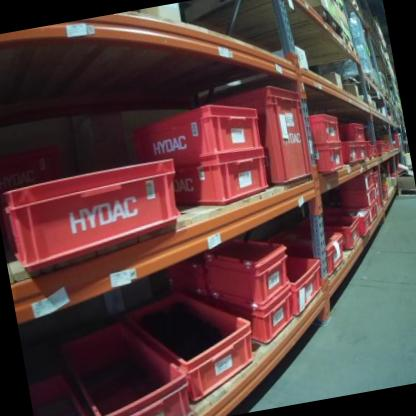pallet: (254, 9, 344, 57), (334, 34, 358, 62), (316, 0, 352, 9)
small_load_carrier: (0, 154, 187, 272), (118, 274, 265, 412), (53, 305, 197, 416), (210, 73, 315, 199), (124, 89, 271, 174), (196, 228, 298, 315), (254, 222, 355, 298), (174, 146, 278, 219), (201, 288, 301, 358), (28, 363, 95, 416), (281, 255, 332, 320), (299, 211, 363, 253), (318, 201, 374, 238), (303, 140, 348, 180), (303, 104, 342, 147), (342, 164, 380, 194), (338, 187, 378, 209), (335, 118, 367, 145), (373, 169, 387, 211), (352, 139, 370, 164), (342, 138, 357, 162), (373, 132, 386, 157), (380, 182, 391, 202), (366, 140, 378, 158), (367, 203, 380, 217)
